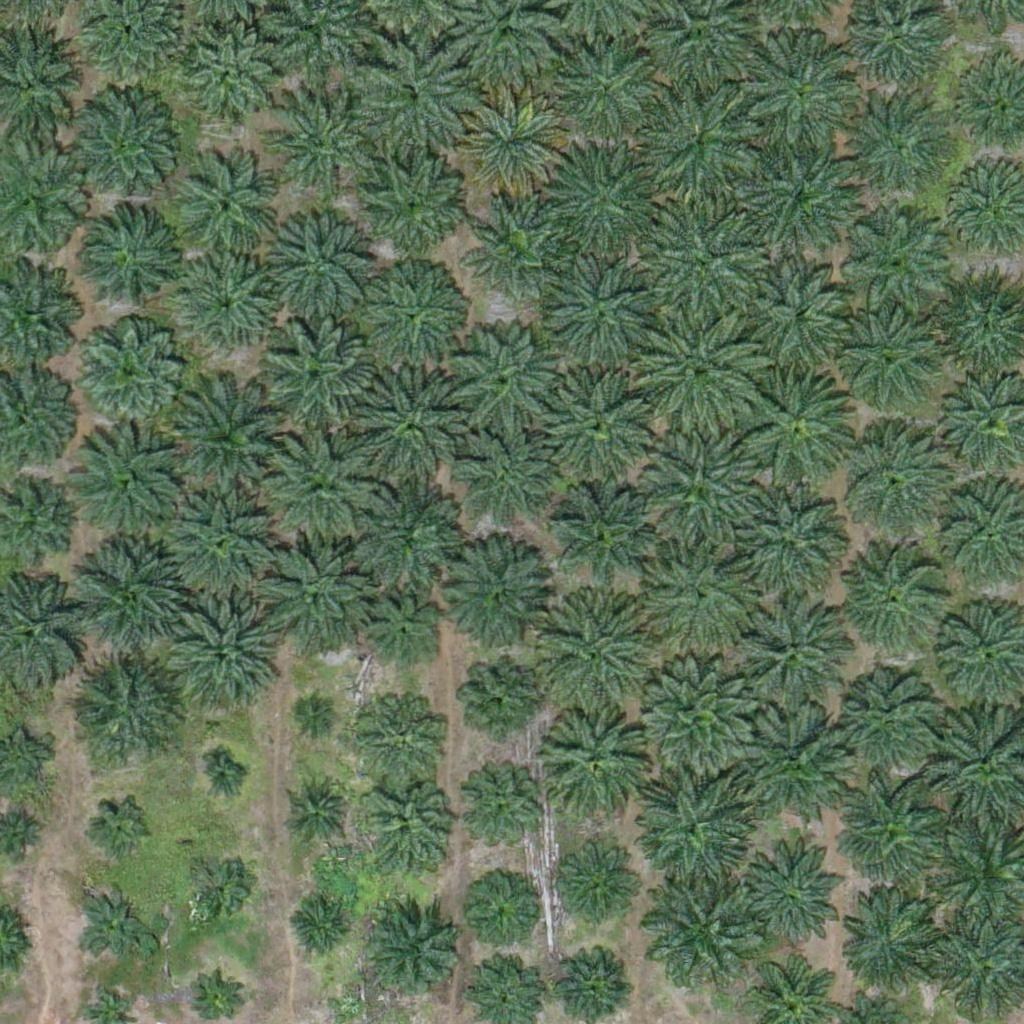Kelapa_Sawit: (169, 377, 294, 503), (636, 82, 761, 208), (642, 201, 767, 327), (636, 304, 761, 429), (164, 485, 277, 599), (74, 430, 187, 544), (739, 34, 852, 148), (72, 315, 185, 429), (835, 423, 948, 536), (834, 768, 947, 881), (744, 373, 857, 486), (734, 478, 847, 591), (731, 596, 844, 709), (644, 870, 757, 983), (534, 702, 647, 815), (437, 542, 550, 655), (355, 370, 468, 483), (341, 471, 454, 584), (162, 594, 275, 707), (75, 536, 188, 649), (66, 651, 179, 764), (830, 300, 943, 413), (744, 259, 857, 372), (746, 140, 859, 253), (455, 89, 568, 202), (452, 322, 565, 435), (357, 42, 470, 155), (353, 147, 466, 260), (66, 92, 179, 205), (255, 531, 367, 645), (836, 201, 948, 315), (740, 700, 852, 813), (736, 846, 848, 959), (643, 427, 755, 540), (641, 536, 753, 649), (639, 655, 751, 768), (635, 770, 747, 883), (537, 592, 649, 705), (266, 429, 378, 542), (552, 33, 664, 146), (542, 142, 654, 255), (542, 253, 654, 366), (541, 365, 653, 478), (265, 87, 377, 200), (261, 319, 373, 432), (848, 542, 948, 643), (839, 666, 939, 767), (840, 888, 940, 989), (551, 489, 651, 590), (360, 901, 460, 1002), (181, 29, 281, 130), (363, 267, 463, 368), (270, 212, 370, 313), (178, 161, 278, 262), (850, 95, 950, 195), (179, 254, 279, 354), (83, 208, 183, 308), (355, 692, 443, 780), (363, 786, 451, 874), (473, 204, 560, 293), (549, 839, 636, 927), (460, 436, 547, 524), (463, 662, 538, 738), (465, 777, 540, 853), (361, 595, 436, 671), (76, 885, 151, 960), (465, 882, 528, 945), (289, 900, 352, 963), (184, 855, 247, 918), (92, 797, 154, 860), (292, 785, 342, 835), (300, 696, 338, 734), (205, 758, 242, 796)
